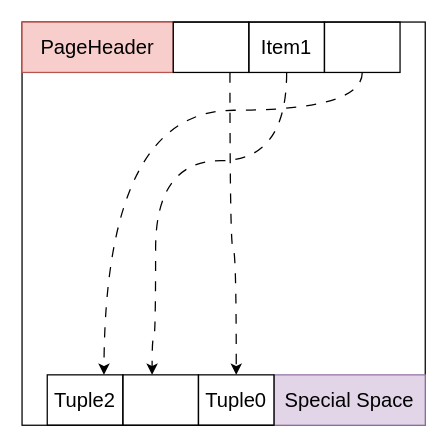
The diagram is 447 pixels wide and 447 high, and some of its shapes have lost their labels. The centre of each missing label's shape, as x and y in pixels:
"Item0" goes at (210,46).
"Item2" goes at (361,46).
"Tuple1" goes at (160,399).
